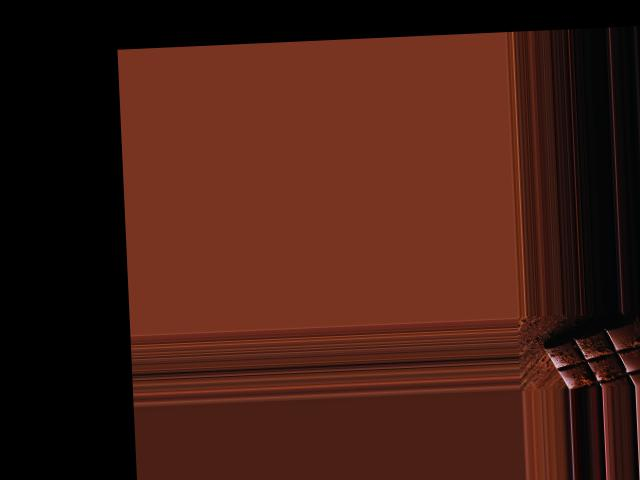chocolate: (537, 316, 640, 389)
